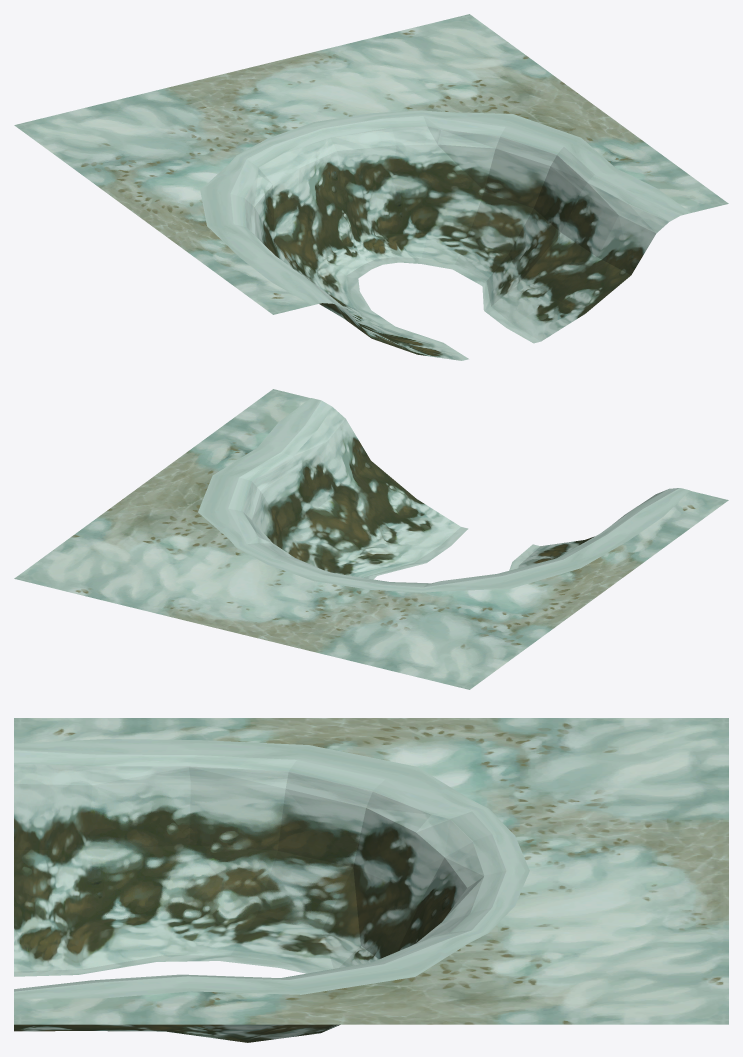
The model's file is tundra_niche_basecap01.fbx.
3 renders of one model, top to bottom at view 1: azimuth 30°, elevation 25°; view 2: azimuth 150°, elevation 25°; view 3: azimuth 270°, elevation 25°, orthographic. The views are drawn at different scales.
Visible parts, largest first — view 1: obj2.006; view 2: obj2.006; view 3: obj2.006.
Part boxes in pixels (x1,y1,x2,y2): obj2.006: (14,14,728,360); obj2.006: (14,389,728,689); obj2.006: (14,718,728,1042).
Bounding box in the file's own units: 20.62 × 3.99 × 20.33.
